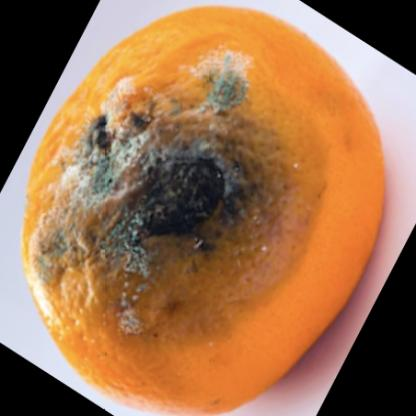rotten: (25, 7, 389, 416)
